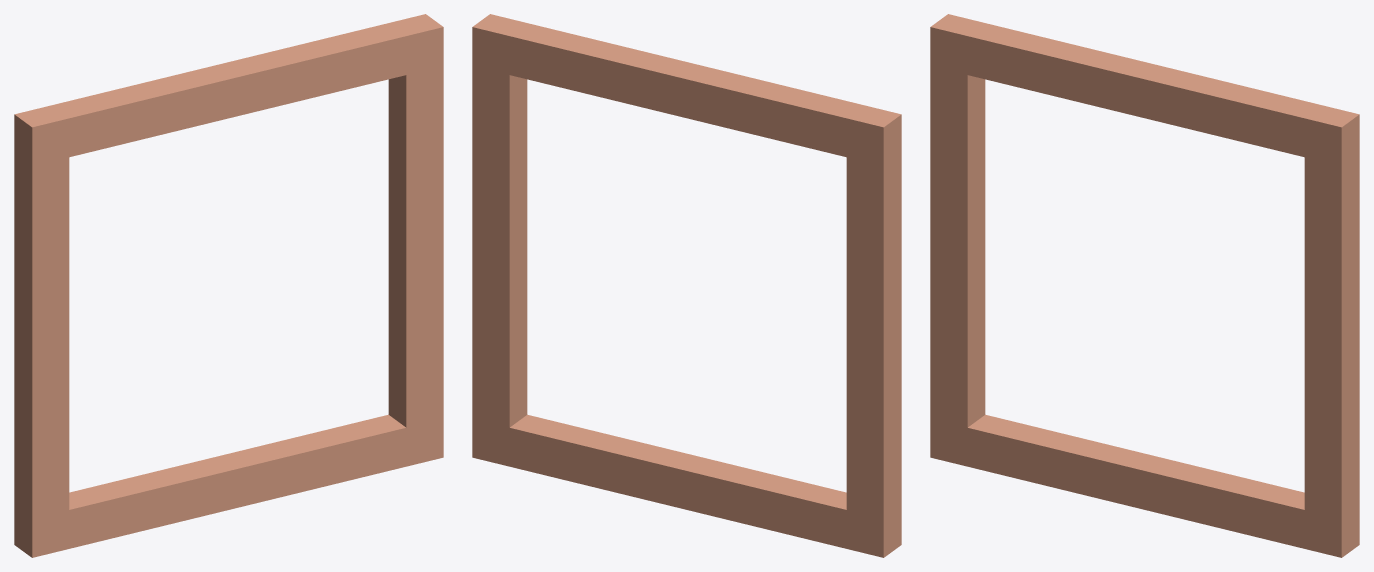
The model's file is frame.gltf.
3 views of the same model, side by side, from view 1: azimuth 30°, elevation 25°; view 2: azimuth 150°, elevation 25°; view 3: azimuth 330°, elevation 25° (orthographic).
Visible parts, largest first — view 1: Plane; view 2: Plane; view 3: Plane.
Part boxes in pixels (bbox=[...]): Plane: bbox=[14, 14, 443, 557]; Plane: bbox=[472, 14, 901, 557]; Plane: bbox=[930, 14, 1359, 557].
Size of the model in its own units: 2 by 2 by 0.15.
